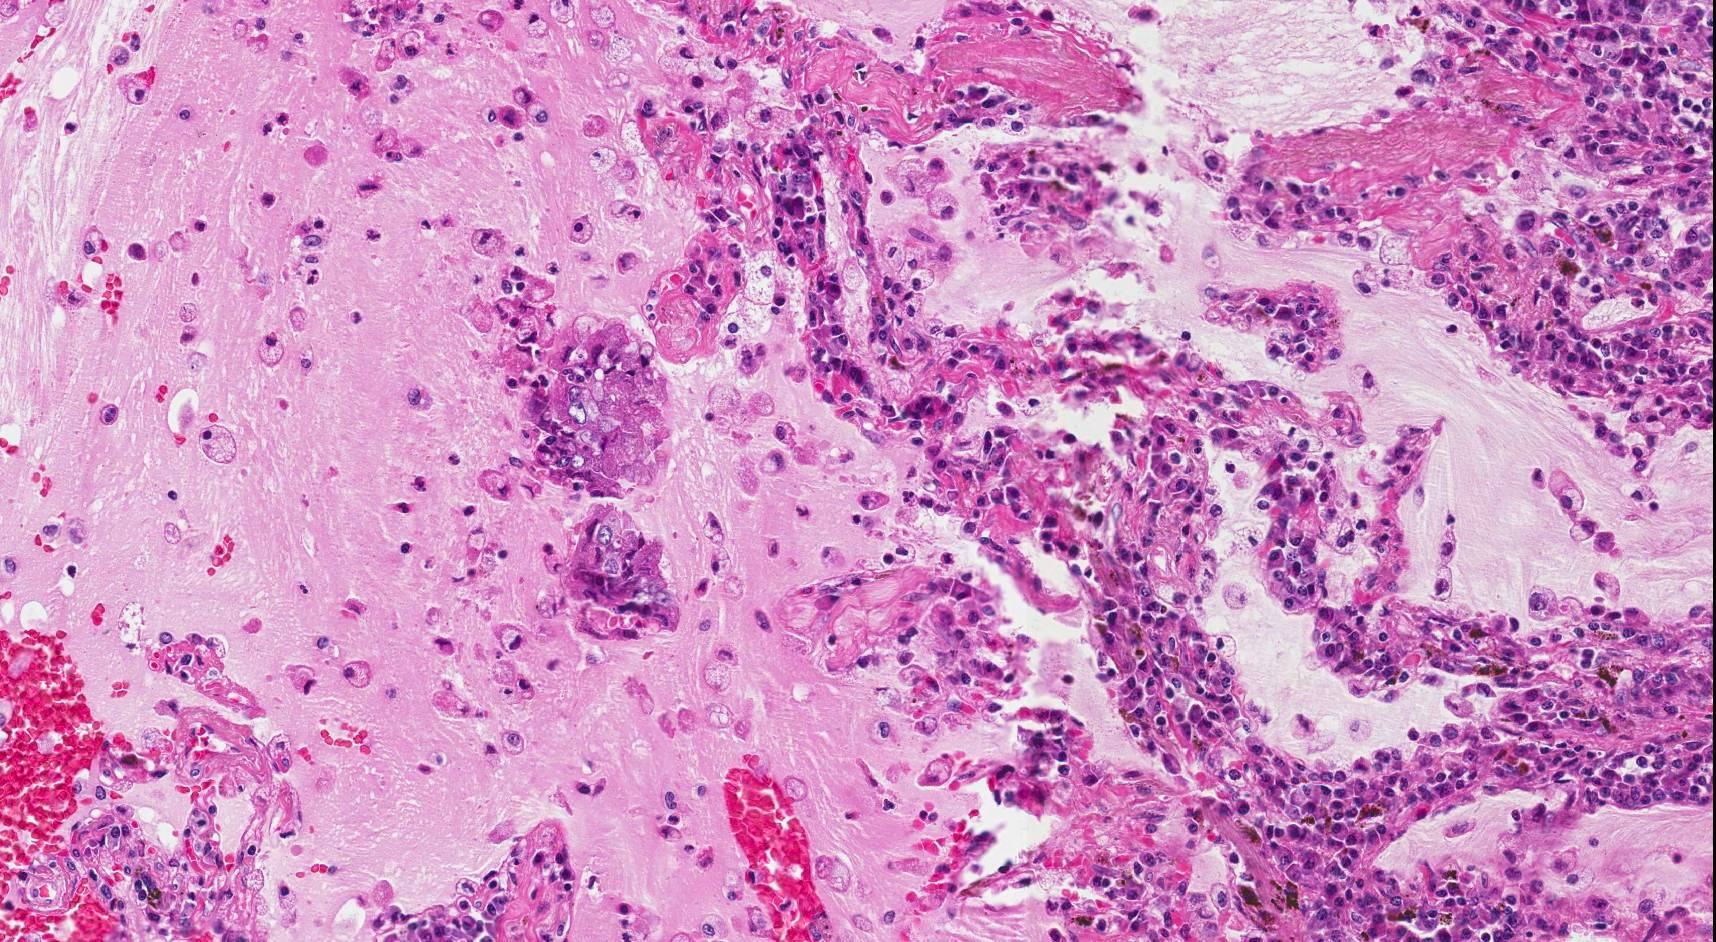stas: (503, 314, 686, 505), (552, 501, 688, 647)
